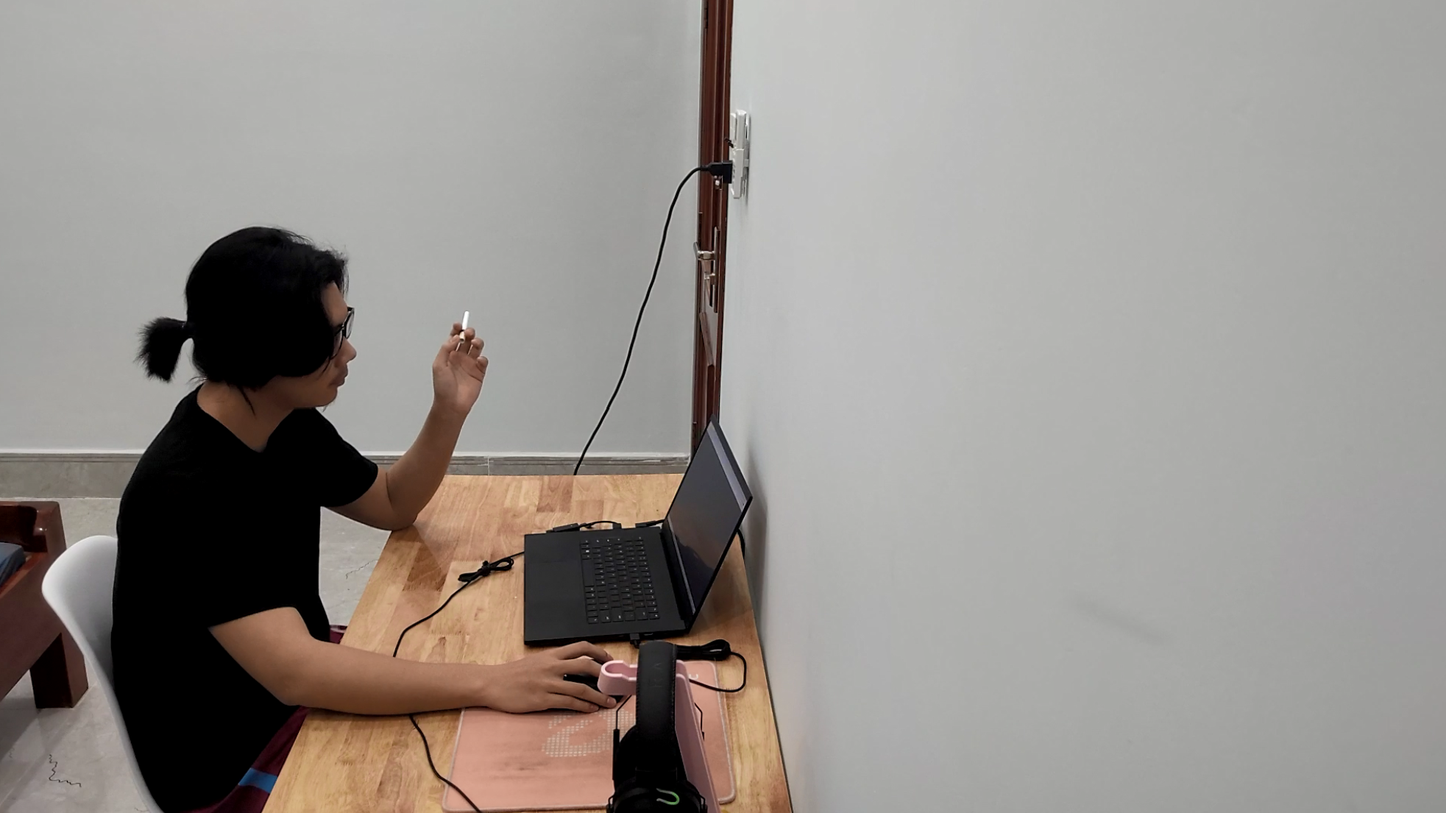cigarette: (461, 301, 478, 344)
person: (83, 196, 466, 813)
